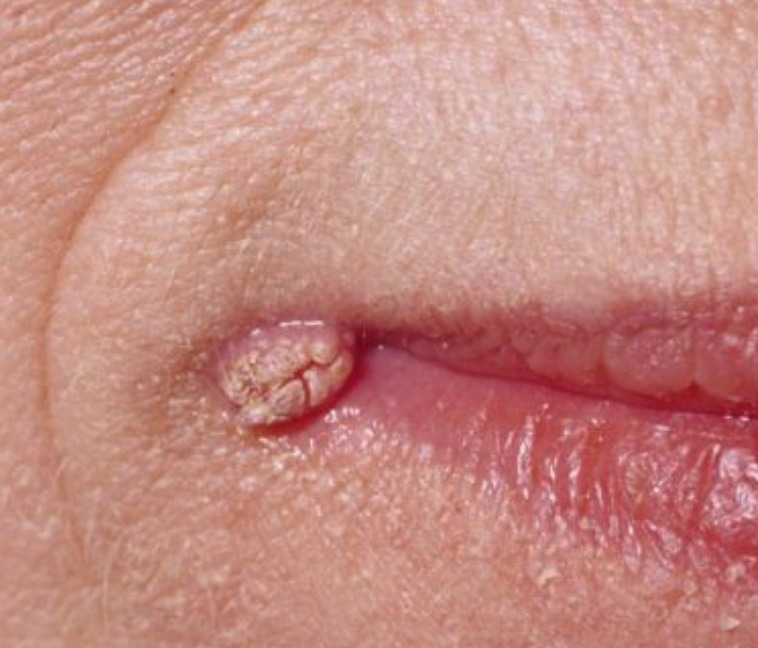Warts: (197, 288, 391, 456)
